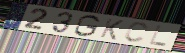2: (22, 8, 51, 32)
3: (50, 12, 74, 35)
C: (123, 22, 150, 44)
G: (72, 14, 101, 38)
K: (99, 17, 125, 41)
L: (148, 24, 168, 48)
